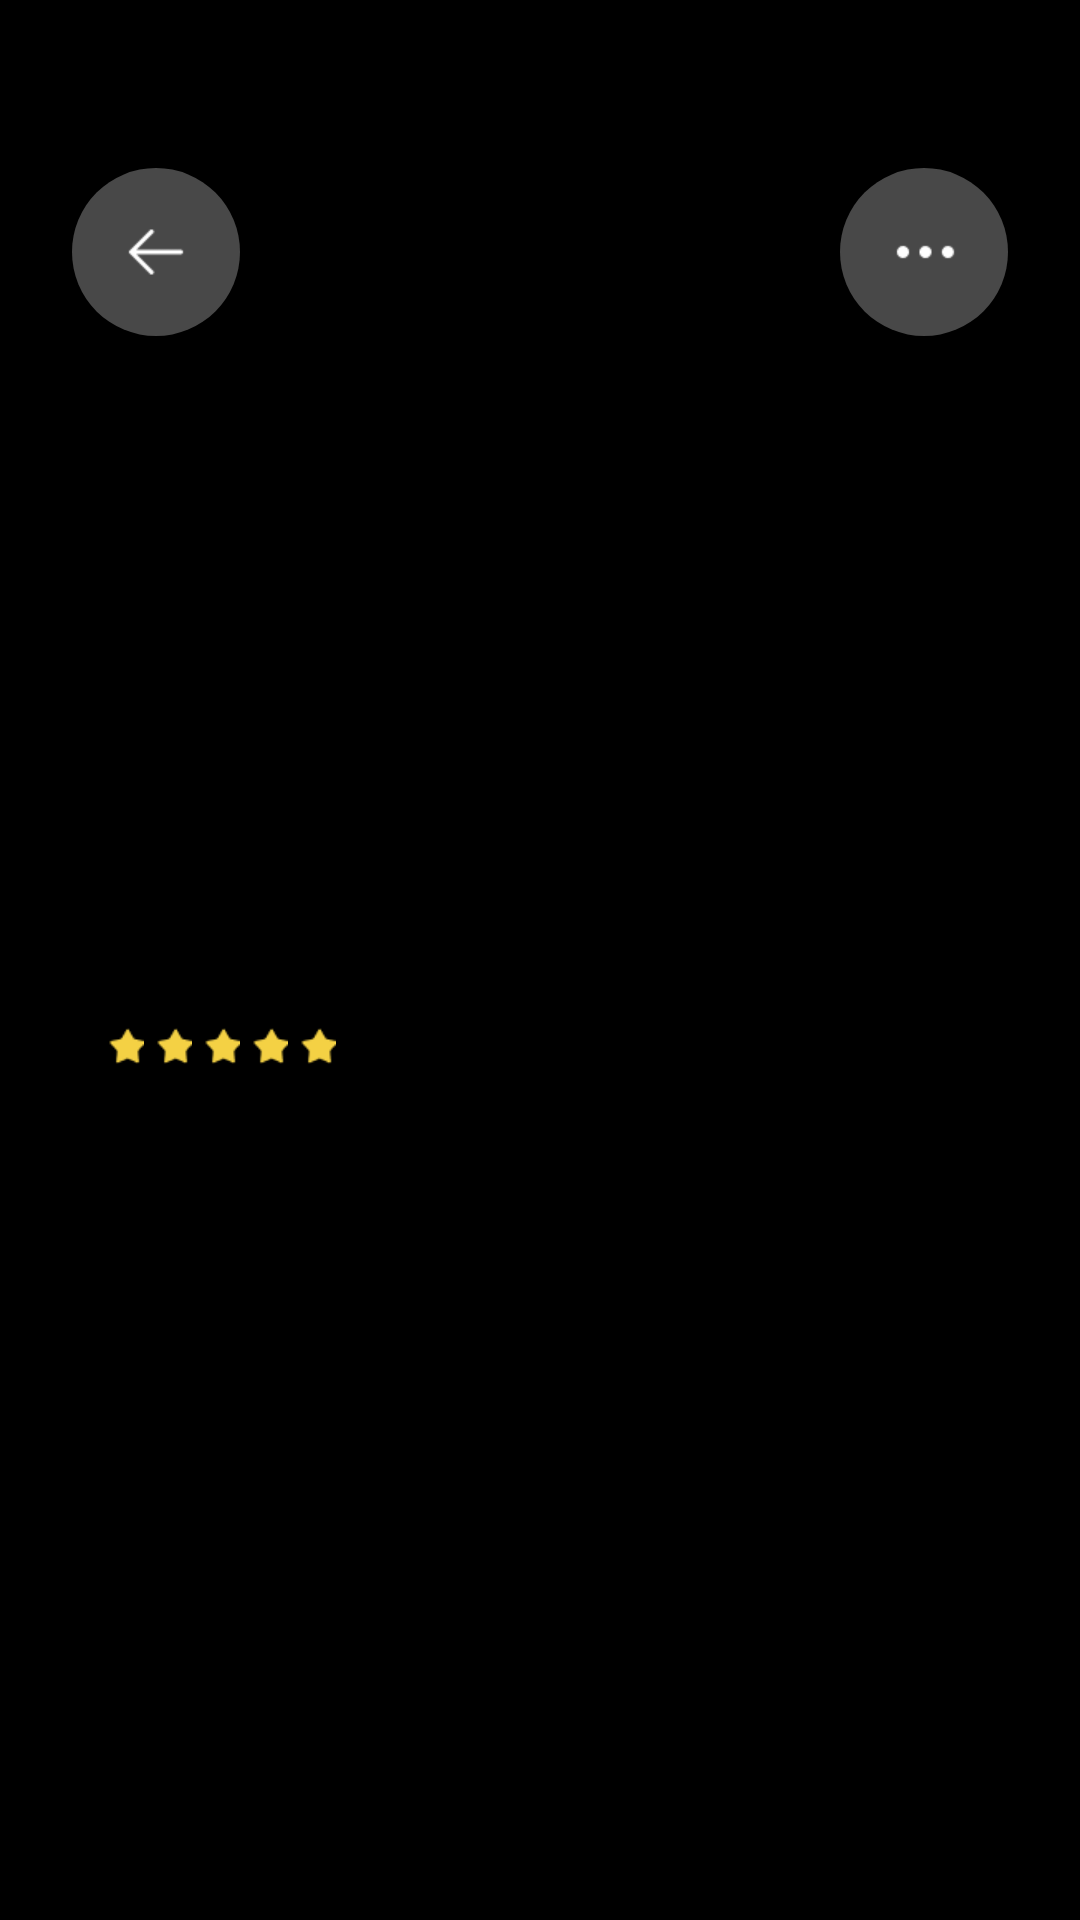

Where to tap for icons on this 1080 × 1920 app screen, as (x,y):
back: (156,252)
more: (924,252)
